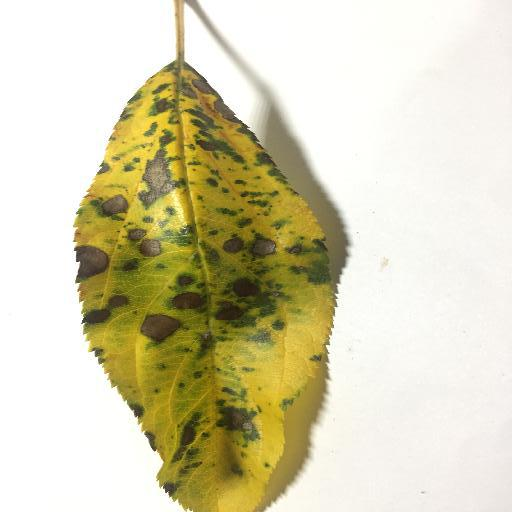Brown_Spot: (74, 246, 107, 277), (139, 314, 180, 334), (146, 153, 161, 202), (127, 233, 157, 257), (209, 303, 244, 322), (223, 409, 250, 432), (233, 276, 261, 295), (97, 195, 127, 212), (216, 104, 239, 122), (191, 79, 213, 97), (172, 423, 186, 451), (252, 240, 277, 253), (177, 297, 206, 308), (80, 313, 103, 325), (104, 297, 128, 307), (225, 241, 242, 252), (181, 274, 196, 286), (156, 99, 169, 109)
